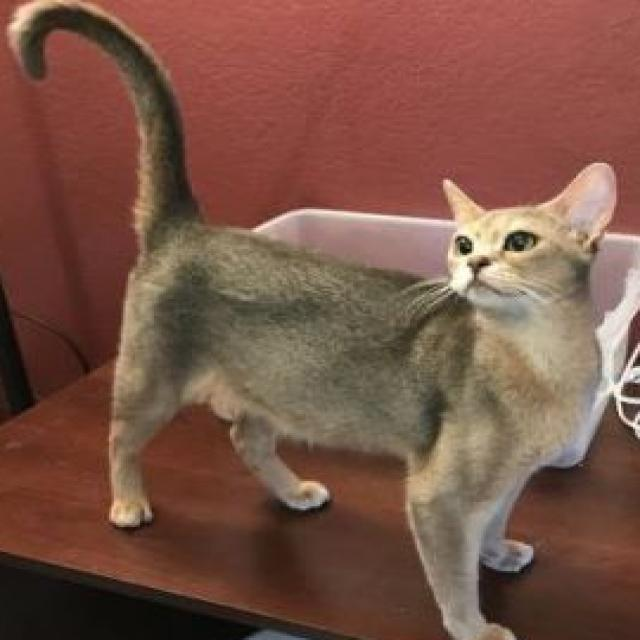Abyssinian: (7, 0, 621, 640)
